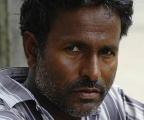male: (40, 15, 121, 114)
